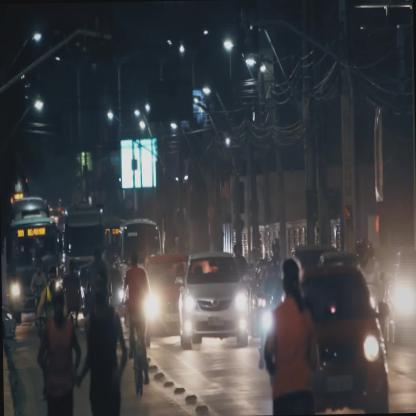bus: (0, 210, 56, 324)
car: (174, 250, 247, 348), (144, 254, 188, 350)
motorcycle: (122, 253, 148, 395)
